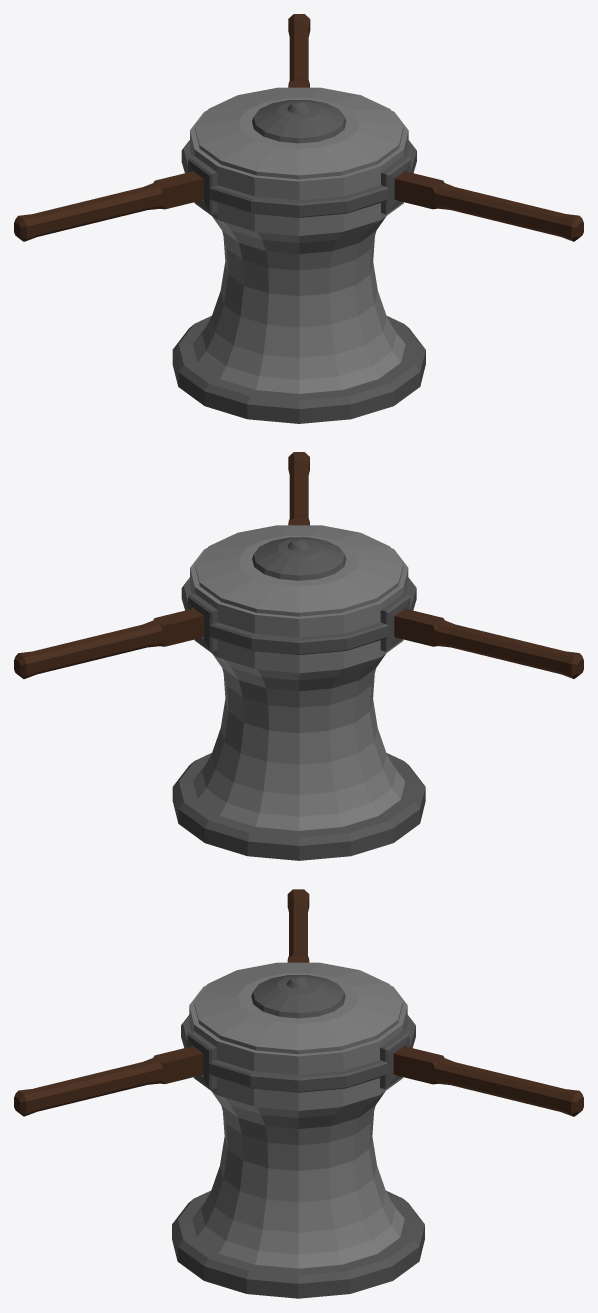
File: CapstanStoneComplete.fbx
3 renders of one model, top to bottom at view 1: azimuth 30°, elevation 25°; view 2: azimuth 150°, elevation 25°; view 3: azimuth 270°, elevation 25°, orthographic.
Parts seen in each view (by area): view 1: CapstanStoneComplete; view 2: CapstanStoneComplete; view 3: CapstanStoneComplete.
Part boxes in pixels (left/top/right/bottom): CapstanStoneComplete: left=14, top=14, right=583, bottom=423; CapstanStoneComplete: left=14, top=452, right=583, bottom=860; CapstanStoneComplete: left=14, top=889, right=583, bottom=1298.
Bounding box in the file's own units: 239 × 142 × 275.
